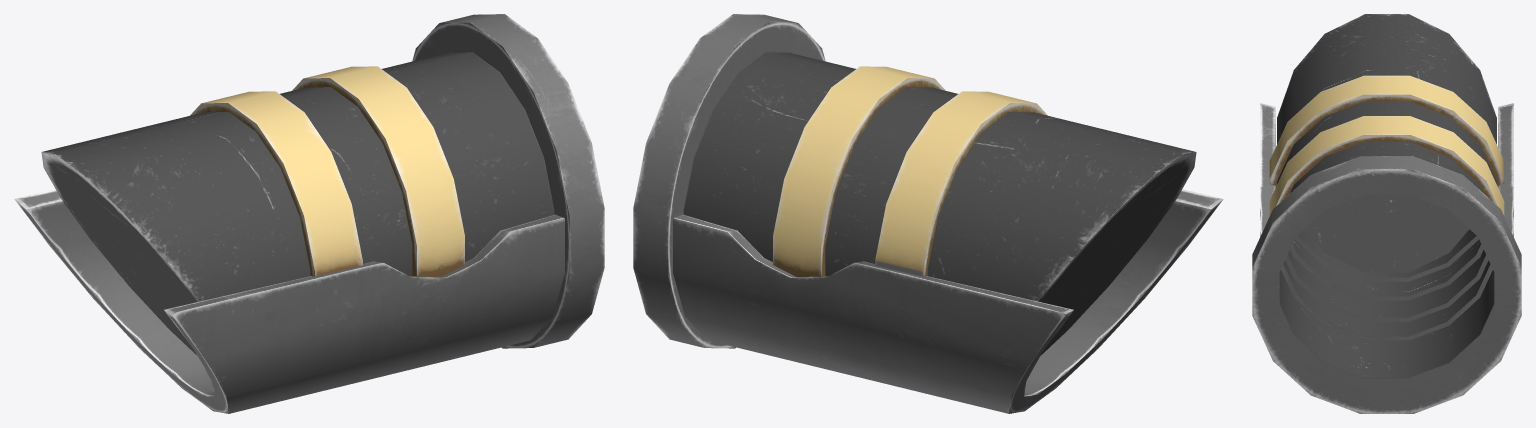
Rendered from pommel_2_c_b.glb.
3 renders of one model, left to right at view 1: azimuth 30°, elevation 25°; view 2: azimuth 150°, elevation 25°; view 3: azimuth 270°, elevation 25°, orthographic. The views are drawn at different scales.
Visible parts, largest first — view 1: pommel_2_c_b_lod0; view 2: pommel_2_c_b_lod0; view 3: pommel_2_c_b_lod0.
Boxes of the visible parts, x1,y1,x2,y2 form: pommel_2_c_b_lod0: (14,14,604,413); pommel_2_c_b_lod0: (633,14,1223,413); pommel_2_c_b_lod0: (1252,14,1521,413).
Size of what is drawn, in the model's own units: 0.0484 by 0.0308 by 0.0308.
1 material, 1 textured.
